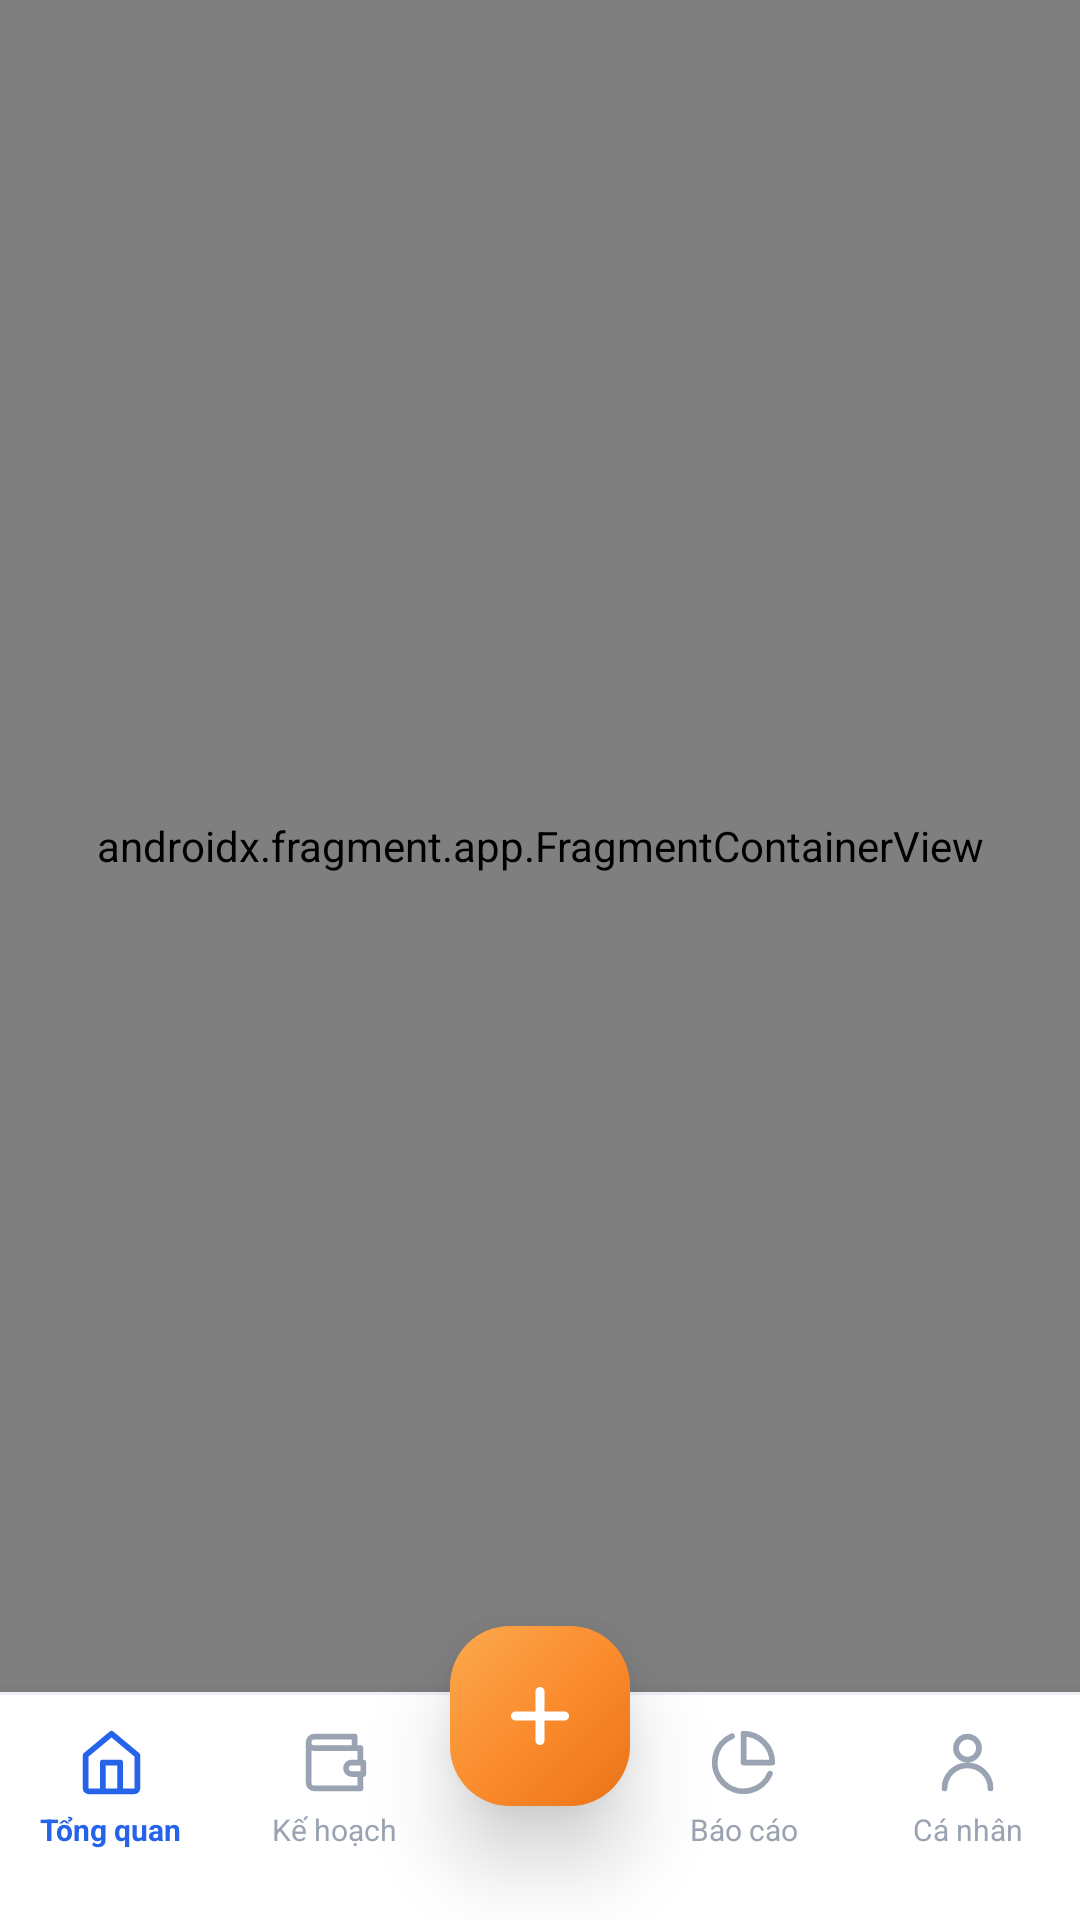

Point at icon controls on the screen. Image size 1080px×1920px, points as (x,y).
home stroke: (111,1762)
pie stroke: (743,1762)
plus: (540,1716)
user stroke: (967,1762)
wallet stroke: (336,1762)
